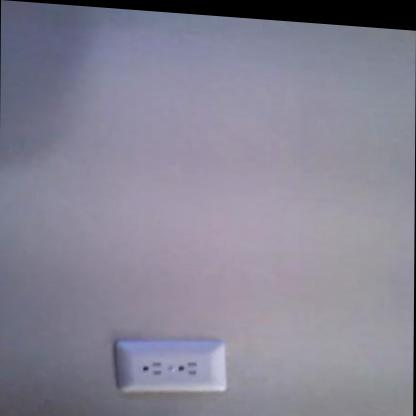OUTLET: (125, 340, 218, 391)
